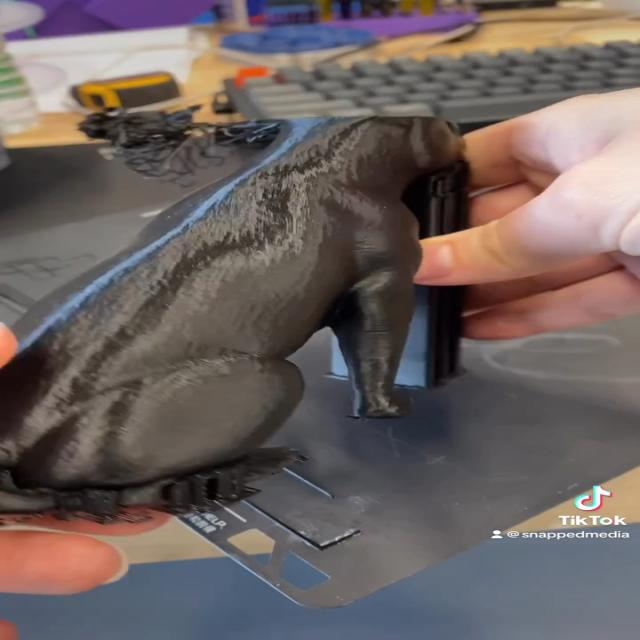spaghetti: (71, 96, 312, 180)
